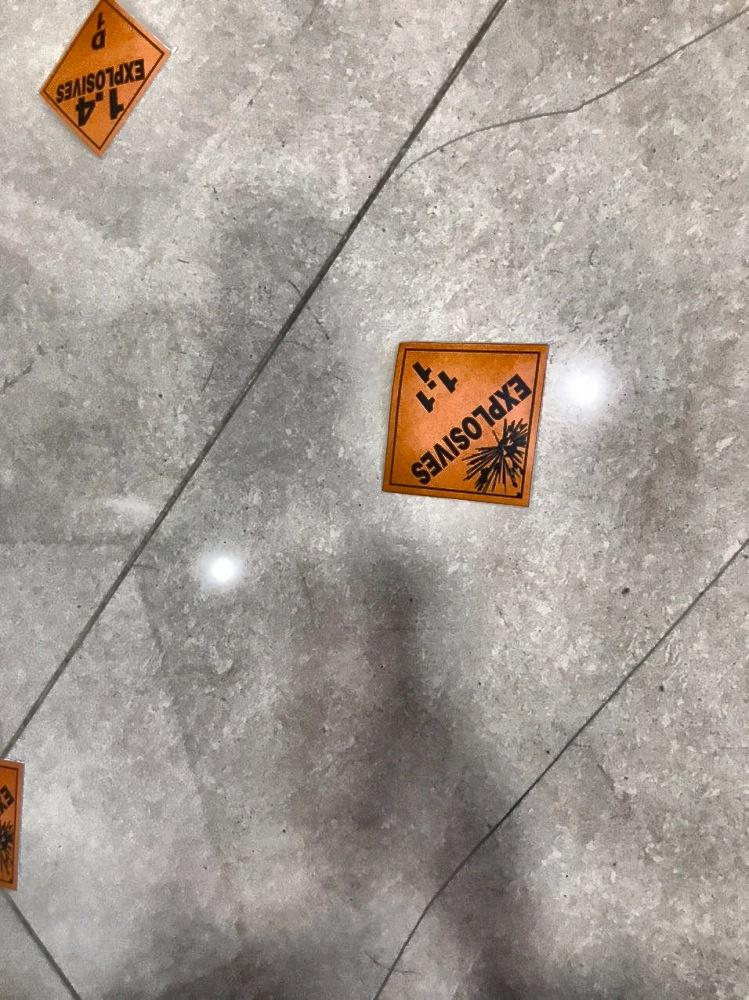explosive: (381, 337, 551, 514), (38, 1, 172, 162)
